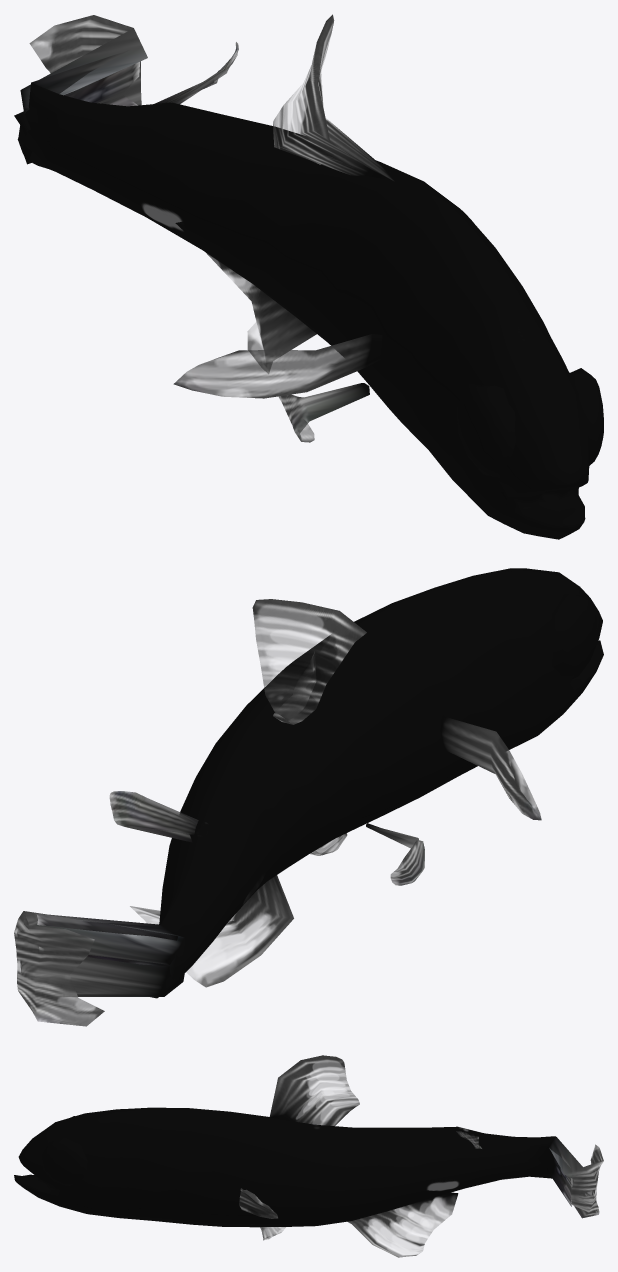
File: lanternfish.glb
3 views of the same model, one above another, from view 1: azimuth 30°, elevation 25°; view 2: azimuth 150°, elevation 25°; view 3: azimuth 270°, elevation 25° (orthographic). The views are drawn at different scales.
Visible parts, largest first — view 1: LanternFish_GEOShape; view 2: LanternFish_GEOShape; view 3: LanternFish_GEOShape.
Boxes of the visible parts, <box> form: LanternFish_GEOShape: <box>14,14,603,539</box>; LanternFish_GEOShape: <box>14,568,603,1026</box>; LanternFish_GEOShape: <box>14,1055,603,1257</box>.
Bounding box in the file's own units: 8.54 × 9.05 × 23.9.
Materials: 1 (1 with a texture image).
